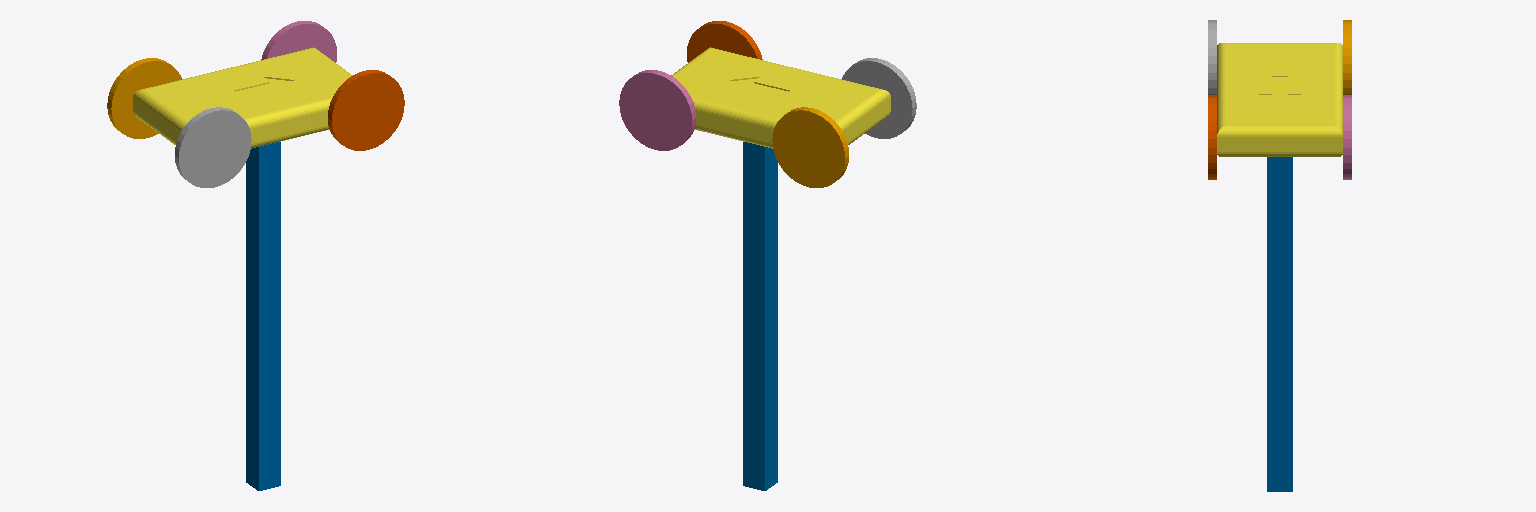
The robot description file, URDF, robot "inverted_pendulum":
<?xml version="1.0" encoding="utf-8"?>
<robot name="inverted_pendulum">

  <link name="world"></link>

  <joint name="virtual_pz_joint" type="prismatic">
      <parent link="world"/>
      <child link="virtual_pz_link"/>
      <origin xyz="0 0 0" rpy="0 0 0"/>
      <axis xyz="0 0 1"/>
      <limit effort="100.0" lower="-10.0" upper="10.0" velocity="1000.0"/>
  </joint>

  <link name="virtual_pz_link">
    <inertial>
      <origin
        xyz="0 0 0"
        rpy="0 0 0" />
      <mass
        value="0.00001" />
      <inertia
        ixx="0.00001"
        ixy="0.0"
        ixz="0.0"
        iyy="0.00001"
        iyz="0.0"
        izz="0.00001" />
    </inertial>
  </link>

  <joint name="virtual_px_joint" type="prismatic">
      <parent link="virtual_pz_link"/>
      <child link="virtual_body"/>
      <origin xyz="0 0 0" rpy="0 0 0"/>
      <axis xyz="1 0 0"/>
      <limit effort="1000.0" lower="-1000.0" upper="1000.0" velocity="1000.0"/>
  </joint>

  <link name="virtual_body">
    <inertial>
      <origin
        xyz="0 0 0"
        rpy="0 0 0" />
      <mass
        value="0.00001" />
      <inertia
        ixx="0.00001"
        ixy="0.0"
        ixz="0.0"
        iyy="0.00001"
        iyz="0.0"
        izz="0.00001" />
    </inertial>
  </link>


  <joint name="virtual_fixed_joint" type="fixed">
      <parent link="virtual_body"/>
      <child link="real_body"/>
  </joint>

  <link name="real_body">
    <inertial>
      <origin
        xyz="0 0 0"
        rpy="0 0 0" />
      <mass
        value="5.0" />
      <inertia
        ixx="0.007"
        ixy="0.0"
        ixz="0.0"
        iyy="0.02"
        iyz="0.0"
        izz="0.028" />
    </inertial>
    <visual>
      <origin
        xyz="0 0 0"
        rpy="0 0 0" />
      <geometry>
        <mesh filename="package://oatmeal_gazebo/simulation/models/carwheel/meshes/body.STL" />
      </geometry>
    </visual>
  </link>
  <gazebo reference="real_body">
    <material>Gazebo/Orange</material>
  </gazebo>

  <link name="Pendulum">
    <inertial>
      <origin
        xyz="0 0 -0.25"
        rpy="0 0 0" />
      <mass
        value="0.5" />
      <inertia
        ixx="1.97E-05"
        ixy="0.0"
        ixz="0.0"
        iyy="3.86E-05"
        iyz="0.0"
        izz="1.97E-05" />
    </inertial>
    <visual>
      <origin
        xyz="0 0 -0.25"
        rpy="0 0 0" />
      <geometry>
        <box size="0.03 0.03 0.5"/>
      </geometry>
    </visual>
  </link>
  <gazebo reference="Pendulum">
    <material>Gazebo/Blue</material>
  </gazebo>

  <joint name="Joint_Pendulum"
    type="revolute">
    <origin
      xyz="0 0 0"
      rpy="0 0 0" />
    <parent
      link="real_body" />
    <child
      link="Pendulum" />
    <axis
      xyz="0 1 0" />
    <limit
      lower="-1000000"
      upper="1000000"
      effort="50"
      velocity="100" />
  </joint>

  <link name="FR">
    <inertial>
      <origin
        xyz="0 0 0"
        rpy="0 0 0" />
      <mass
        value="0.05" />
      <inertia
        ixx="1.97E-05"
        ixy="0.0"
        ixz="0.0"
        iyy="3.86E-05"
        iyz="0.0"
        izz="1.97E-05" />
    </inertial>
    <visual>
      <origin
        xyz="0 0 0"
        rpy="1.5707963267948966 0 0" />
      <geometry>
        <cylinder radius="0.05" length="0.01"/>
      </geometry>
    </visual>
    <collision>
      <origin
        xyz="0 0 0"
        rpy="1.5707963267948966 0 0" />
      <geometry>
        <cylinder radius="0.051" length="0.0001"/>
      </geometry>
    </collision>
  </link>
  <gazebo reference="FR">
    <material>Gazebo/Blue</material>
  </gazebo>

  <joint
    name="Joint_FR"
    type="revolute">
    <origin
      xyz="0.095 -0.08 0"
      rpy="0 0 0" />
    <parent
      link="real_body" />
    <child
      link="FR" />
    <axis
      xyz="0 1 0" />
    <limit
      lower="-1000000"
      upper="1000000"
      effort="50"
      velocity="100" />
  </joint>

  <link name="FL">
    <inertial>
      <origin
        xyz="0 0 0"
        rpy="0 0 0" />
      <mass
        value="0.05" />
      <inertia
        ixx="1.97E-05"
        ixy="0.0"
        ixz="0.0"
        iyy="3.86E-05"
        iyz="0.0"
        izz="1.97E-05" />
    </inertial>
    <visual>
      <origin
        xyz="0 0 0"
        rpy="1.5707963267948966 0 0" />
      <geometry>
        <cylinder radius="0.05" length="0.01"/>
      </geometry>
    </visual>
    <collision>
      <origin
        xyz="0 0 0"
        rpy="1.5707963267948966 0 0" />
      <geometry>
        <cylinder radius="0.051" length="0.0001"/>
      </geometry>
    </collision>
  </link>
  <gazebo reference="FL">
    <material>Gazebo/Green</material>
  </gazebo>

  <joint name="Joint_FL"
    type="revolute">
    <origin
      xyz="0.095 0.08 0"
      rpy="0 0 0" />
    <parent
      link="real_body" />
    <child
      link="FL" />
    <axis
      xyz="0 1 0" />
    <limit
      lower="-1000000"
      upper="1000000"
      effort="50"
      velocity="100" />
  </joint>

  <link name="HR">
    <inertial>
      <origin
        xyz="0 0 0"
        rpy="0 0 0" />
      <mass
        value="0.05" />
      <inertia
        ixx="1.97E-05"
        ixy="0.0"
        ixz="0.0"
        iyy="3.86E-05"
        iyz="0.0"
        izz="1.97E-05" />
    </inertial>
    <visual>
      <origin
        xyz="0 0 0"
        rpy="1.5707963267948966 0 0" />
      <geometry>
        <cylinder radius="0.05" length="0.01"/>/
      </geometry>
    </visual>
    <collision>
      <origin
        xyz="0 0 0"
        rpy="1.5707963267948966 0 0" />
      <geometry>
        <cylinder radius="0.051" length="0.0001"/>
      </geometry>
    </collision>
  </link>
  <gazebo reference="HR">
    <material>Gazebo/Yellow</material>
  </gazebo>

  <joint name="Joint_HR"
    type="revolute">
    <origin
      xyz="-0.115 -0.08 0"
      rpy="0 0 0" />
    <parent
      link="real_body" />
    <child
      link="HR" />
    <axis
      xyz="0 1 0" />
    <limit
      lower="-1000000"
      upper="1000000"
      effort="50"
      velocity="100" />
  </joint>

  <link name="HL">
    <inertial>
      <origin
        xyz="0 0 0"
        rpy="0 0 0" />
      <mass
        value="0.05" />
      <inertia
        ixx="1.97E-05"
        ixy="0.0"
        ixz="0.0"
        iyy="3.86E-05"
        iyz="0.0"
        izz="1.97E-05" />
    </inertial>
    <visual>
      <origin
        xyz="0 0 0"
        rpy="1.5707963267948966 0 0" />
      <geometry>
        <cylinder radius="0.05" length="0.01"/>
      </geometry>
    </visual>
    <collision>
      <origin
        xyz="0 0 0"
        rpy="1.5707963267948966 0 0" />
      <geometry>
        <cylinder radius="0.051" length="0.0001"/>
      </geometry>
    </collision>
  </link>
  <gazebo reference="HL">
    <material>Gazebo/Red</material>
  </gazebo>

  <joint name="Joint_HL"
    type="revolute">
    <origin
      xyz="-0.115 0.08 0"
      rpy="0 0 0" />
    <parent
      link="real_body" />
    <child
      link="HL" />
    <axis
      xyz="0 1 0" />
    <limit
      lower="-1000000"
      upper="1000000"
      effort="50"
      velocity="100" />
  </joint>
</robot>

--- What the picture shows (computed from the rendered views, not written in the file) ---
Views: 3 orthographic renders of the robot side by side, from view 1: azimuth 30°, elevation 25°; view 2: azimuth 150°, elevation 25°; view 3: azimuth 270°, elevation 25°.
Model inverted_pendulum with 9 links and 8 joints (5 revolute, 2 prismatic, 1 fixed), rooted at world, posed every joint at zero.
Visible links, largest first — view 1: real_body, Pendulum, FR, HR, HL, FL; view 2: real_body, Pendulum, FL, HL, HR, FR; view 3: real_body, Pendulum, FR, FL, HR, HL.
Link boxes in pixels (x1=…): real_body: x1=133, y1=47, x2=352, y2=148; Pendulum: x1=246, y1=142, x2=280, y2=490; FR: x1=328, y1=70, x2=404, y2=150; HR: x1=175, y1=107, x2=251, y2=187; HL: x1=107, y1=58, x2=181, y2=138; FL: x1=261, y1=21, x2=336, y2=62; real_body: x1=671, y1=47, x2=890, y2=148; Pendulum: x1=743, y1=142, x2=777, y2=490; FL: x1=619, y1=70, x2=695, y2=150; HL: x1=772, y1=107, x2=848, y2=187; HR: x1=842, y1=58, x2=916, y2=138; FR: x1=687, y1=21, x2=762, y2=62; real_body: x1=1217, y1=43, x2=1342, y2=156; Pendulum: x1=1267, y1=157, x2=1292, y2=491; FR: x1=1208, y1=95, x2=1216, y2=179; FL: x1=1343, y1=95, x2=1351, y2=179; HR: x1=1208, y1=20, x2=1216, y2=94; HL: x1=1343, y1=20, x2=1351, y2=94.
Bounding box of the posed robot: 0.31 × 0.17 × 0.55 m (x, y, z).
1 mesh visuals loaded from 1 distinct referenced files (1 binary STL).